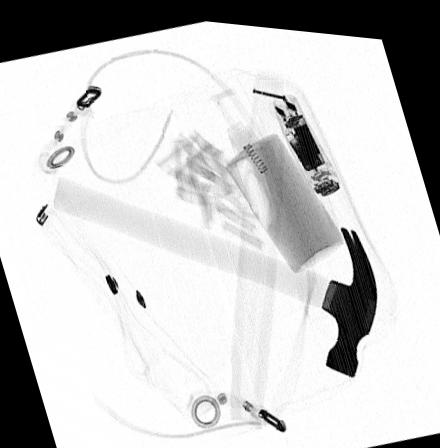Hammer: (51, 175, 377, 369)
